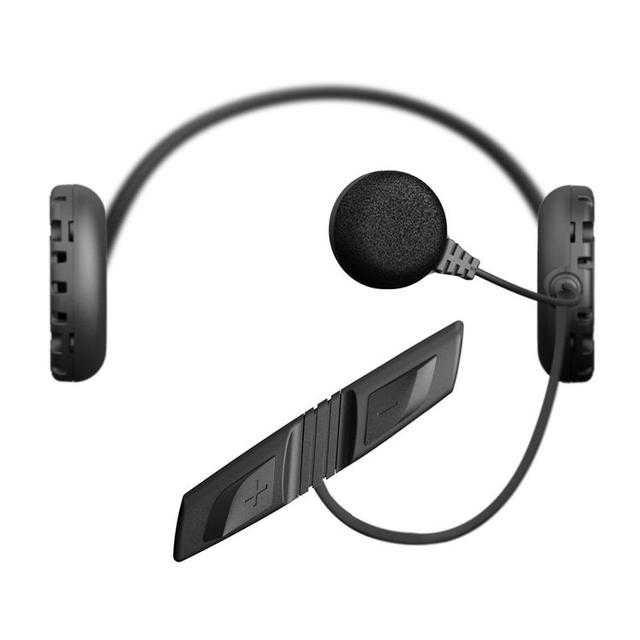microphone: (327, 171, 451, 290)
